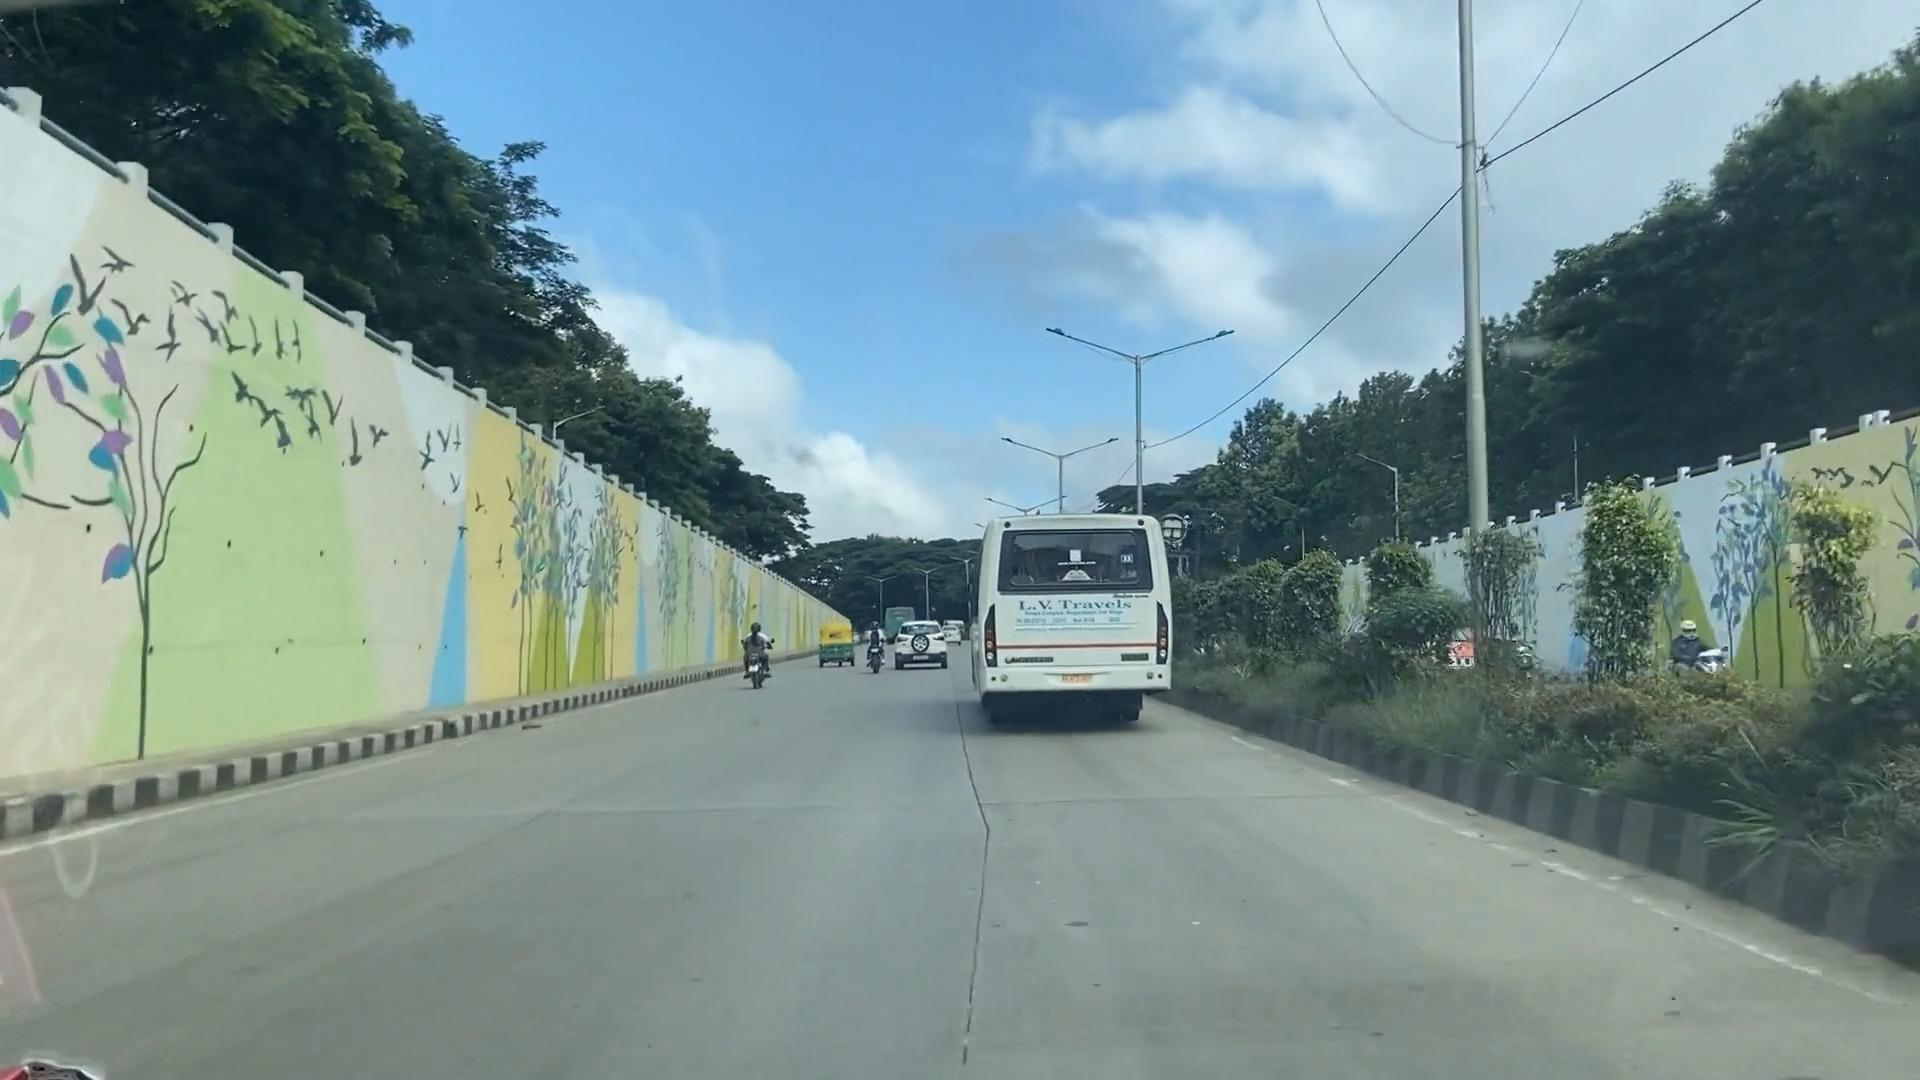HMV: (992, 516, 1167, 716)
